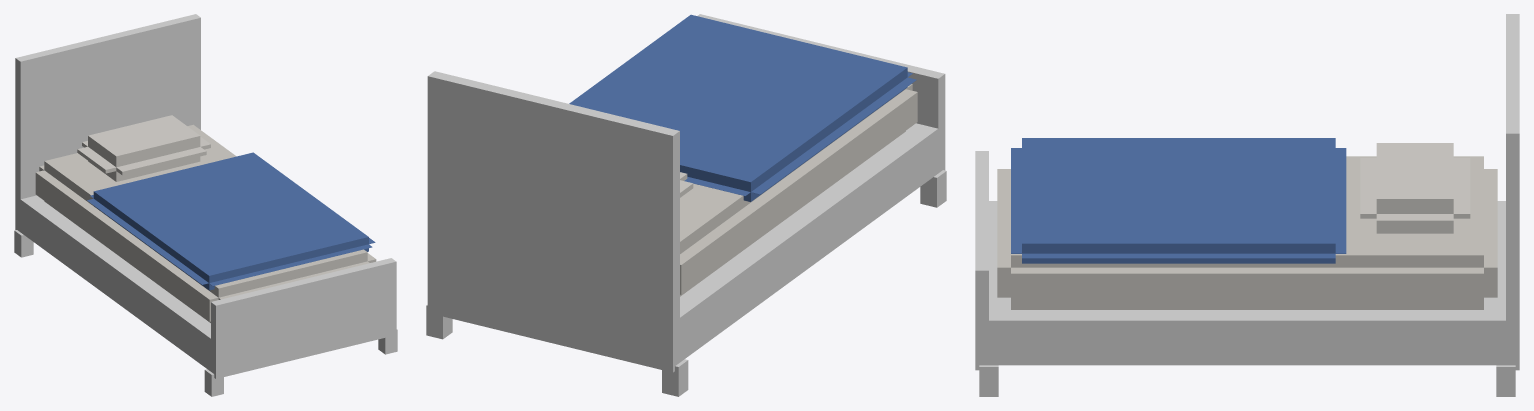
The model's file is bed-single.glb.
The picture shows the model from 3 angles, left to right: view 1: azimuth 30°, elevation 25°; view 2: azimuth 150°, elevation 25°; view 3: azimuth 270°, elevation 25°; orthographic projection. The views are drawn at different scales.
Parts seen in each view (by area): view 1: bed-single; view 2: bed-single; view 3: bed-single.
Part boxes in pixels (<box>): bed-single: <box>14,14,397,396</box>; bed-single: <box>426,14,946,396</box>; bed-single: <box>975,14,1519,396</box>.
Bounding box in the file's own units: 1.22 × 1.21 × 2.28.
